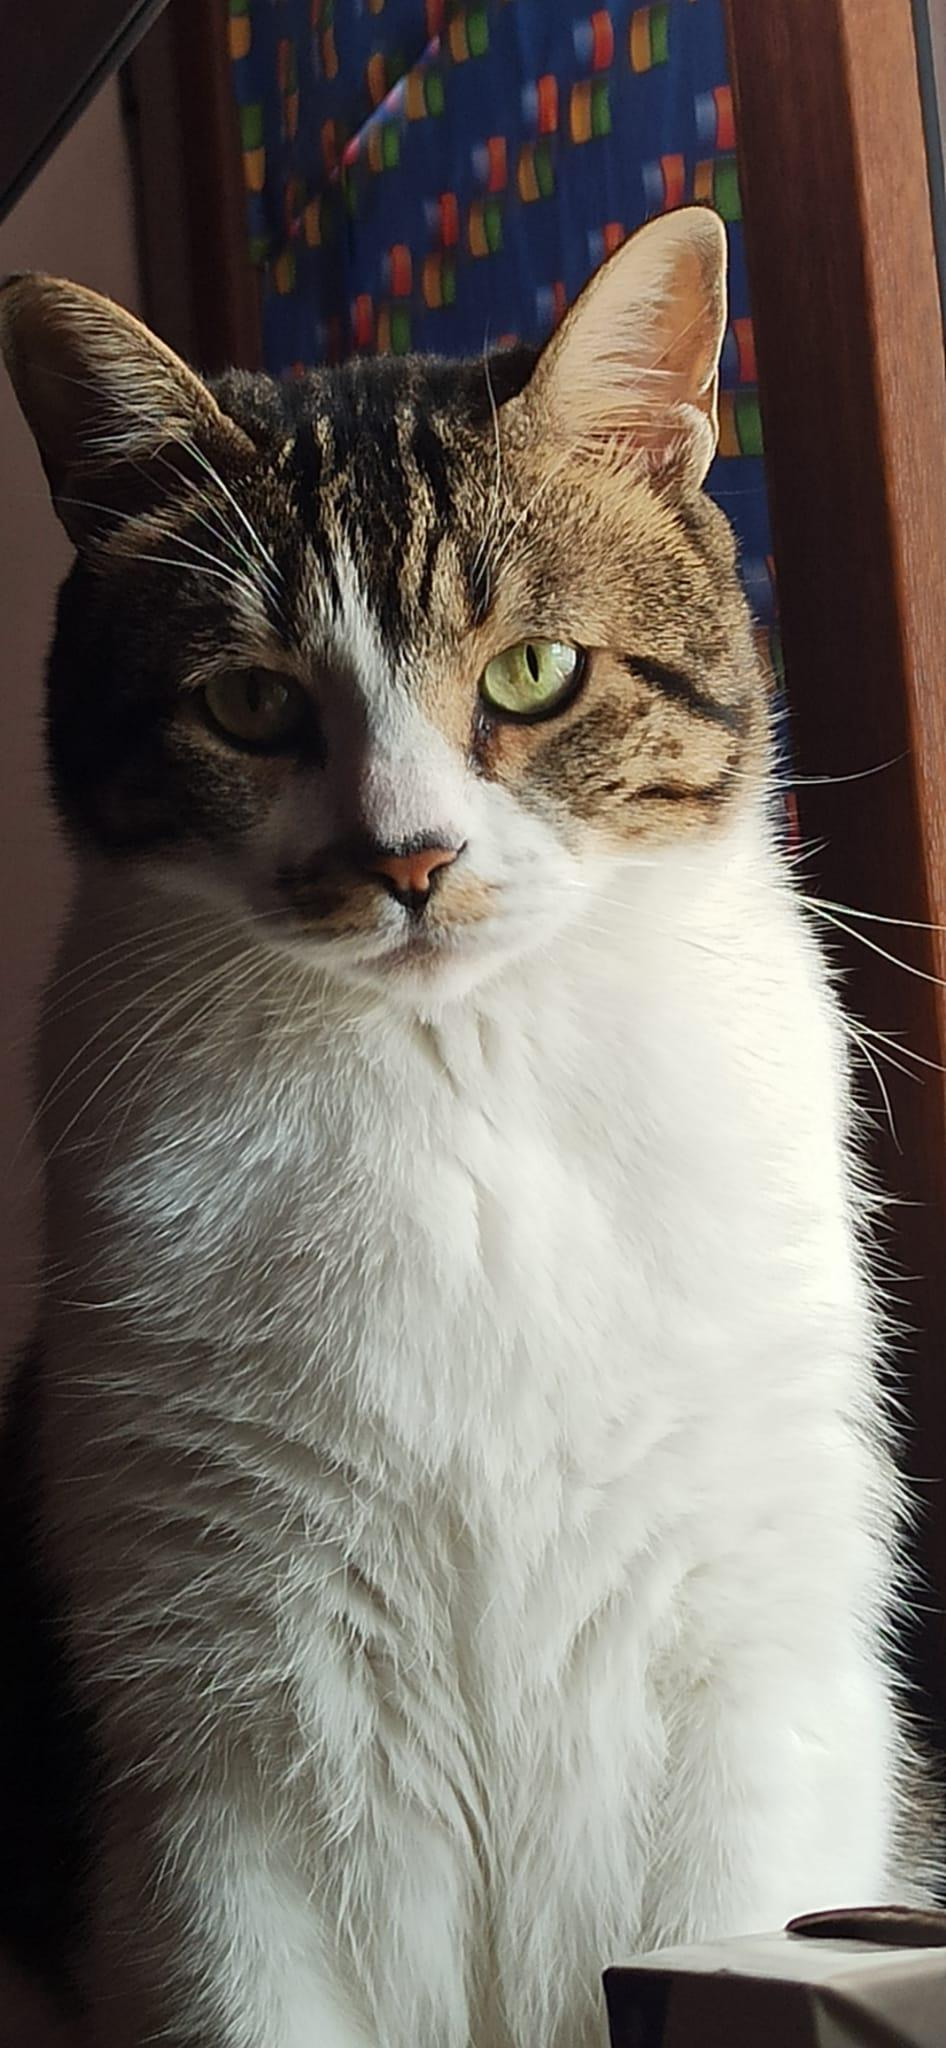kedo: (7, 208, 926, 1887)
